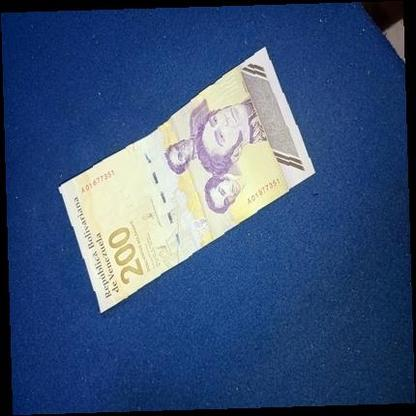vef_front: (58, 46, 316, 314)
